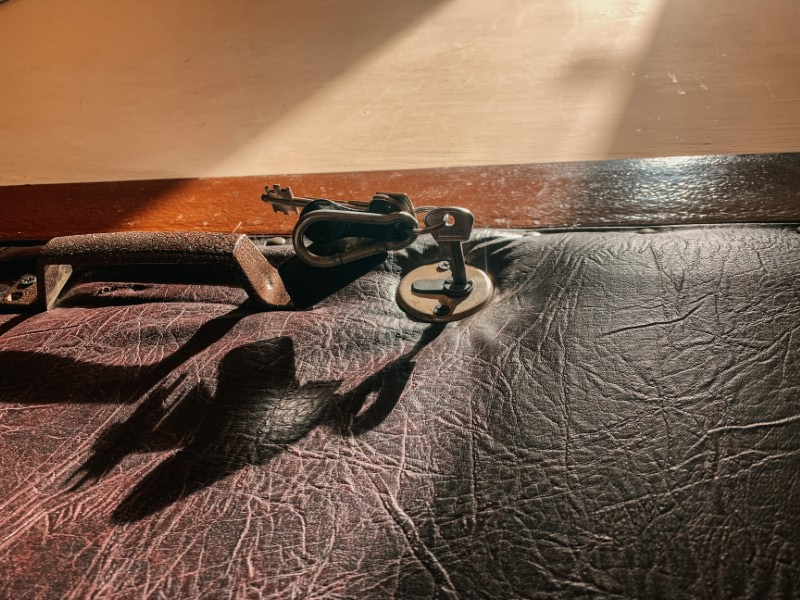key: (260, 183, 417, 224), (424, 196, 476, 302)
